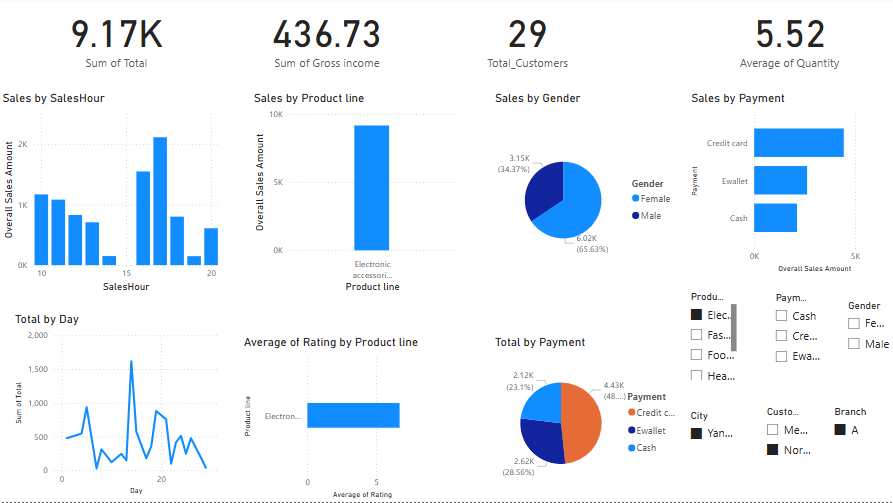

This screenshot's page, from the dashboard's own definition file:
{"tool":"powerbi","page":{"name":"Page 1","canvas":[1280,720],"ordinal":0},"visuals":[{"type":"card","fields":{"Values":["Sum(supermarket_Sales.Total)"]},"box":[17.8,0,299,113.9],"z":0},{"type":"card","fields":{"Values":["Sum(supermarket_Sales.Gross income)"]},"box":[329.3,0,275.9,113.9],"z":1},{"type":"card","fields":{"Values":["supermarket_Sales.Total_Customers"]},"box":[605.1,0,295.4,113.9],"z":2},{"type":"columnChart","title":"Sales by Product line","fields":{"Category":["supermarket_Sales.Product line"],"Y":["supermarket_Sales.Overall Sales Amount"]},"box":[357.7,135.3,297.2,291.9],"z":7},{"type":"pieChart","title":"Total by Payment","fields":{"Category":["supermarket_Sales.Payment"],"Y":["supermarket_Sales.Sum of Total"]},"box":[701.2,482.3,279.4,233.2],"z":8},{"type":"pieChart","title":"Sales by Gender","fields":{"Category":["supermarket_Sales.Gender"],"Y":["supermarket_Sales.Overall Sales Amount"]},"box":[701.2,135.3,270.5,291.9],"z":9},{"type":"barChart","title":" Sales by Payment","fields":{"Y":["supermarket_Sales.Overall Sales Amount"],"Category":["supermarket_Sales.Payment"]},"box":[980.7,135.3,279.4,263.4],"z":10},{"type":"lineChart","title":"Total by Day","fields":{"Category":["supermarket_Sales.Date.Variation.Date Hierarchy.Day"],"Y":["Sum(supermarket_Sales.Total)"]},"box":[17.8,450.3,299,265.2],"z":11},{"type":"columnChart","title":"Sales by SalesHour","fields":{"Category":["supermarket_Sales.SalesHour"],"Y":["supermarket_Sales.Overall Sales Amount"]},"box":[0,135.3,316.8,291.9],"z":12},{"type":"barChart","fields":{"Y":["Avg(supermarket_Sales.Rating)"],"Category":["supermarket_Sales.Product line"]},"box":[343.5,482.3,261.6,238.5],"z":13},{"type":"card","fields":{"Values":["Avg(supermarket_Sales.Quantity)"]},"box":[971.8,0,307.9,113.9],"z":14},{"type":"slicer","fields":{"Values":["supermarket_Sales.Branch"]},"box":[1176.4,578.4,83.6,137],"z":15},{"type":"slicer","fields":{"Values":["supermarket_Sales.City"]},"box":[971.8,583.8,83.6,137],"z":16},{"type":"slicer","fields":{"Values":["supermarket_Sales.Gender"]},"box":[1196,427.1,83.6,137],"z":17},{"type":"slicer","fields":{"Values":["supermarket_Sales.Customer type"]},"box":[1080.3,578.4,83.6,137],"z":18},{"type":"slicer","fields":{"Values":["supermarket_Sales.Payment"]},"box":[1092.8,416.5,83.6,137],"z":19},{"type":"slicer","fields":{"Values":["supermarket_Sales.Product line"]},"box":[971.8,414.7,83.6,137],"z":20}]}

Visuals, with their boxes in screenshot pixels (x1, y1, x2, y2), scaled from the page's 1280x720 canvas onto the 893x503 screenshot:
card - Sum(supermarket_Sales.Total): bbox=[12, 0, 221, 80]
card - Sum(supermarket_Sales.Gross income): bbox=[230, 0, 422, 80]
card - supermarket_Sales.Total_Customers: bbox=[422, 0, 628, 80]
"Sales by Product line" columnChart: bbox=[250, 95, 457, 298]
"Total by Payment" pieChart: bbox=[489, 337, 684, 500]
"Sales by Gender" pieChart: bbox=[489, 95, 678, 298]
" Sales by Payment" barChart: bbox=[684, 95, 879, 279]
"Total by Day" lineChart: bbox=[12, 315, 221, 500]
"Sales by SalesHour" columnChart: bbox=[0, 95, 221, 298]
barChart - Avg(supermarket_Sales.Rating) x supermarket_Sales.Product line: bbox=[240, 337, 422, 502]
card - Avg(supermarket_Sales.Quantity): bbox=[678, 0, 892, 80]
slicer - supermarket_Sales.Branch: bbox=[821, 404, 879, 500]
slicer - supermarket_Sales.City: bbox=[678, 408, 736, 502]
slicer - supermarket_Sales.Gender: bbox=[834, 298, 892, 394]
slicer - supermarket_Sales.Customer type: bbox=[754, 404, 812, 500]
slicer - supermarket_Sales.Payment: bbox=[762, 291, 821, 387]
slicer - supermarket_Sales.Product line: bbox=[678, 290, 736, 385]
